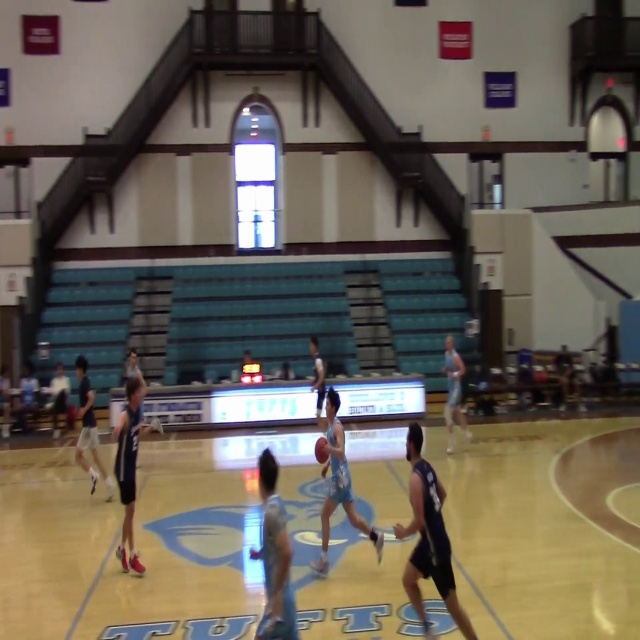Basketball: (314, 436, 331, 464)
